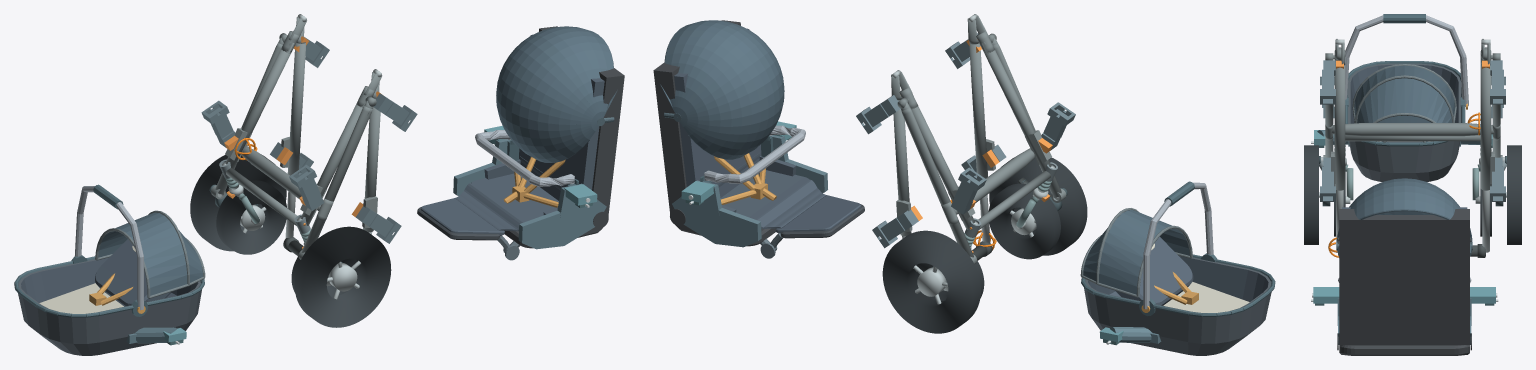
Rendered from D06_w550_state3_wheel_M.glb.
The picture shows the model from 3 angles, left to right: view 1: azimuth 30°, elevation 25°; view 2: azimuth 150°, elevation 25°; view 3: azimuth 270°, elevation 25°; orthographic projection. The views are drawn at different scales.
Parts seen in each view (by area): view 1: D06_Lower, D06_Upper, RL_tire.004, D06_Lower_Mount_L, FR_tire.004, RR_tire.004, main_upper_1.005, V46_rear_leg_-1.005, main_lower_1.005, main_lower_-1.005, main_upper_-1.005, V46_rearbar.005 (+8 smaller); view 2: D06_Lower, D06_Upper, RR_tire.004, D06_Lower_Mount_L, FL_tire.004, RL_tire.004, main_upper_-1.005, V46_rear_leg_1.005, main_lower_-1.005, main_lower_1.005, main_upper_1.005, V46_rearbar.005 (+8 smaller); view 3: D06_Lower, D06_Upper, V46_rearbar.005, RL_tire.004, RR_tire.004, main_upper_1.005, main_upper_-1.005, D06_Lower_Mount_L, front_fixed_round_tube.004, Universal_Cabin_Receiver_M_1, Universal_Cabin_Receiver_M_-1, Universal_Cabin_Receiver_H_1 (+9 smaller).
Part boxes in pixels (<box>): D06_Lower: <box>417,26,624,260</box>; D06_Upper: <box>14,184,205,355</box>; RL_tire.004: <box>294,226,391,327</box>; D06_Lower_Mount_L: <box>453,125,606,249</box>; FR_tire.004: <box>216,180,286,254</box>; RR_tire.004: <box>190,154,286,251</box>; main_upper_1.005: <box>287,43,305,175</box>; V46_rear_leg_-1.005: <box>301,106,372,252</box>; main_lower_1.005: <box>225,43,294,168</box>; main_lower_-1.005: <box>300,103,365,225</box>; main_upper_-1.005: <box>363,98,380,232</box>; V46_rearbar.005: <box>242,146,320,210</box>; D06_Lower: <box>653,20,864,258</box>; D06_Upper: <box>1080,181,1275,355</box>; RR_tire.004: <box>882,230,980,333</box>; D06_Lower_Mount_L: <box>672,121,827,247</box>; FL_tire.004: <box>988,183,1060,259</box>; RL_tire.004: <box>989,157,1087,255</box>; main_upper_-1.005: <box>969,43,987,178</box>; V46_rear_leg_1.005: <box>901,107,973,257</box>; main_lower_-1.005: <box>981,43,1051,171</box>; main_lower_1.005: <box>908,104,974,229</box>; main_upper_1.005: <box>893,100,911,236</box>; V46_rearbar.005: <box>954,148,1034,214</box>; D06_Lower: <box>1336,178,1472,355</box>; D06_Upper: <box>1345,14,1468,181</box>; V46_rearbar.005: <box>1331,123,1494,136</box>; RL_tire.004: <box>1304,145,1318,244</box>; RR_tire.004: <box>1507,145,1521,244</box>; main_upper_1.005: <box>1480,65,1491,190</box>; main_upper_-1.005: <box>1334,65,1345,190</box>; D06_Lower_Mount_L: <box>1311,287,1498,344</box>; front_fixed_round_tube.004: <box>1345,135,1480,141</box>; Universal_Cabin_Receiver_M_1: <box>1490,60,1505,104</box>; Universal_Cabin_Receiver_M_-1: <box>1320,60,1335,104</box>; Universal_Cabin_Receiver_H_1: <box>1490,157,1505,201</box>.
Size of the model in its own units: 1.93 by 0.7426 by 0.656.
